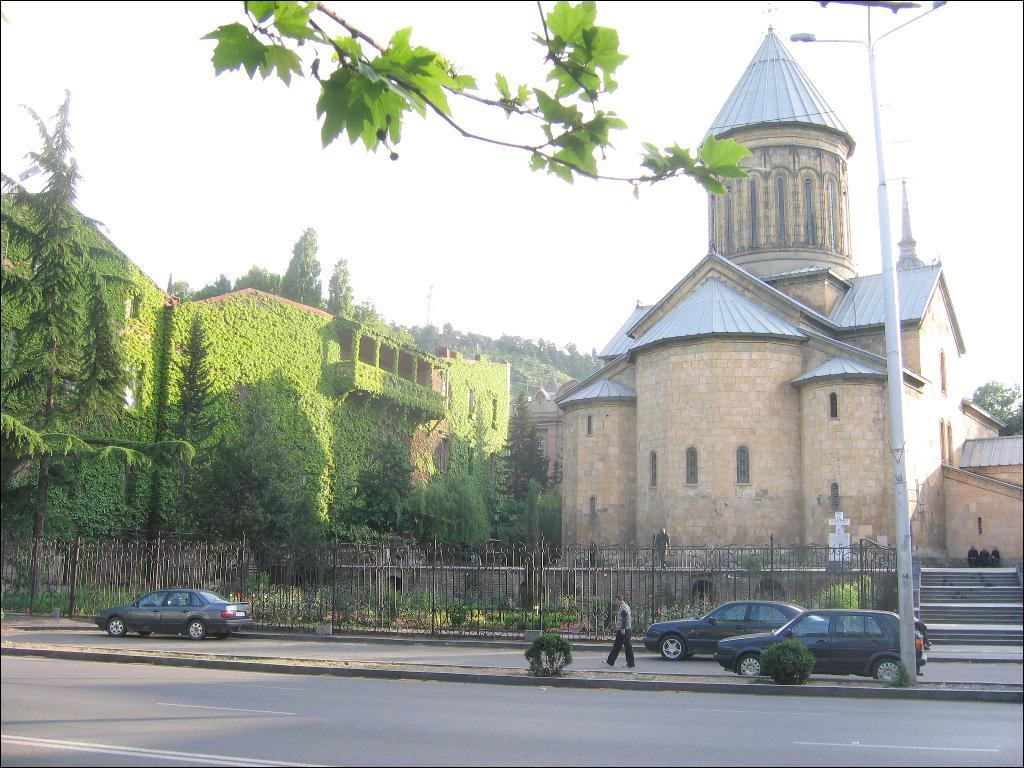Car: (716, 605, 929, 681), (645, 598, 833, 661), (94, 587, 250, 637)
